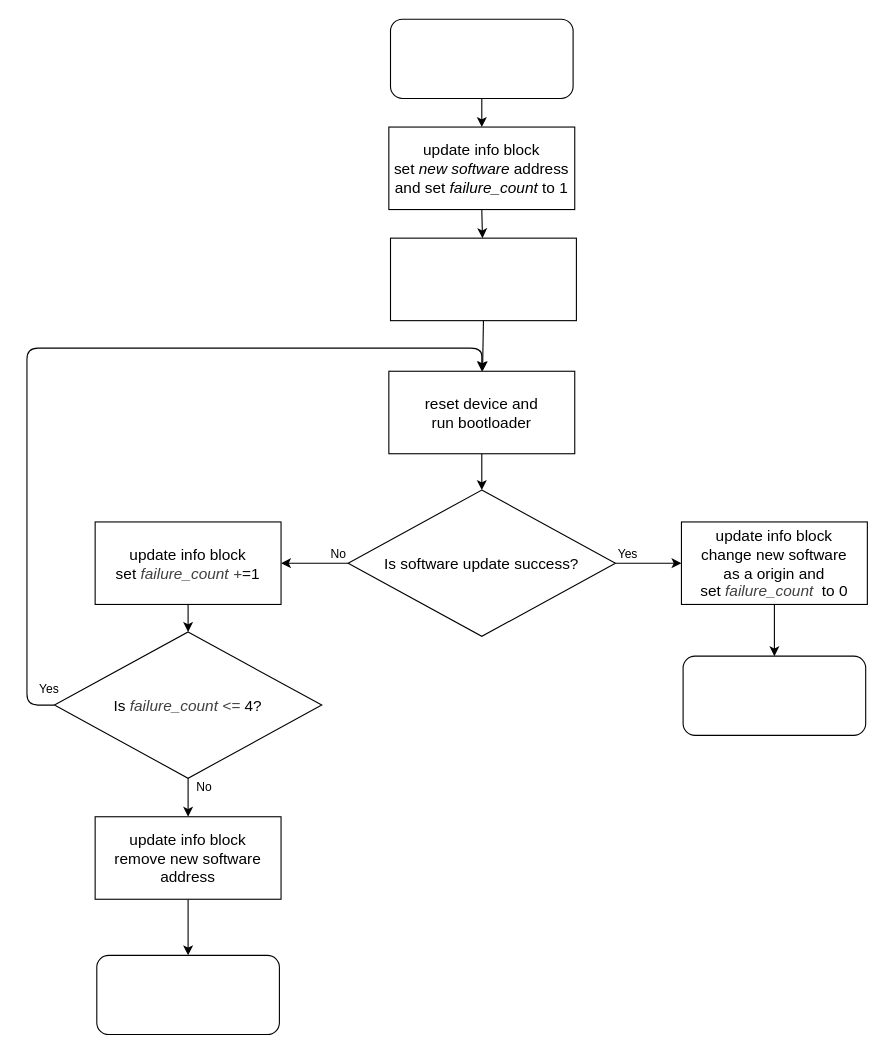
Some shapes in this 887 by 1054 pixel diagram are drawn without their labels. Here are the shapes that lost their labels. From the top down, the centre of each, then its label:
At [481,58]: "POST request /software".
At [482,279]: "save software to flash memory".
At [774,695]: "success update".
At [187,994]: "failed update & run origin software".
